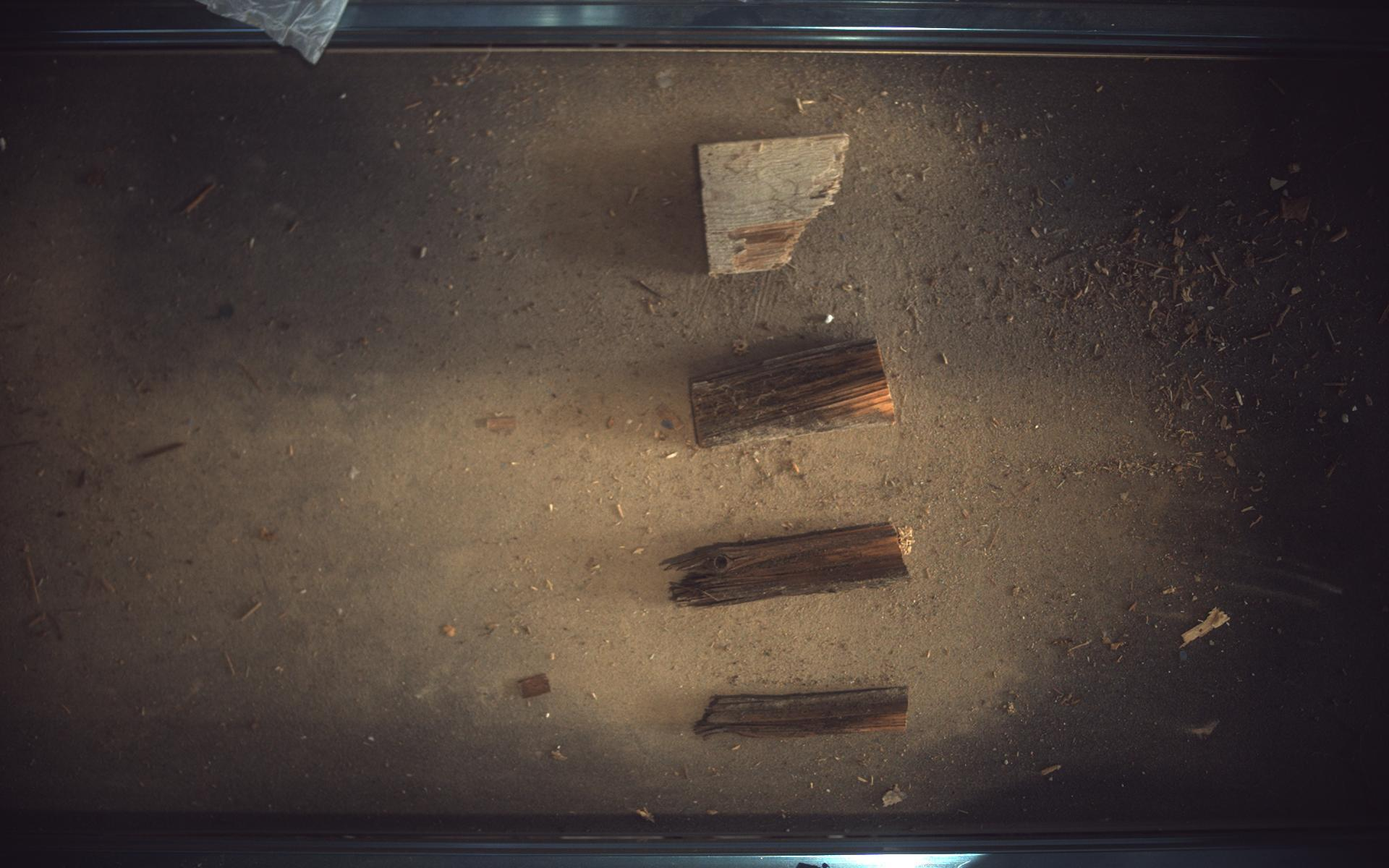wood: (691, 339, 896, 447), (700, 133, 851, 275), (662, 524, 915, 607), (695, 687, 909, 738)
